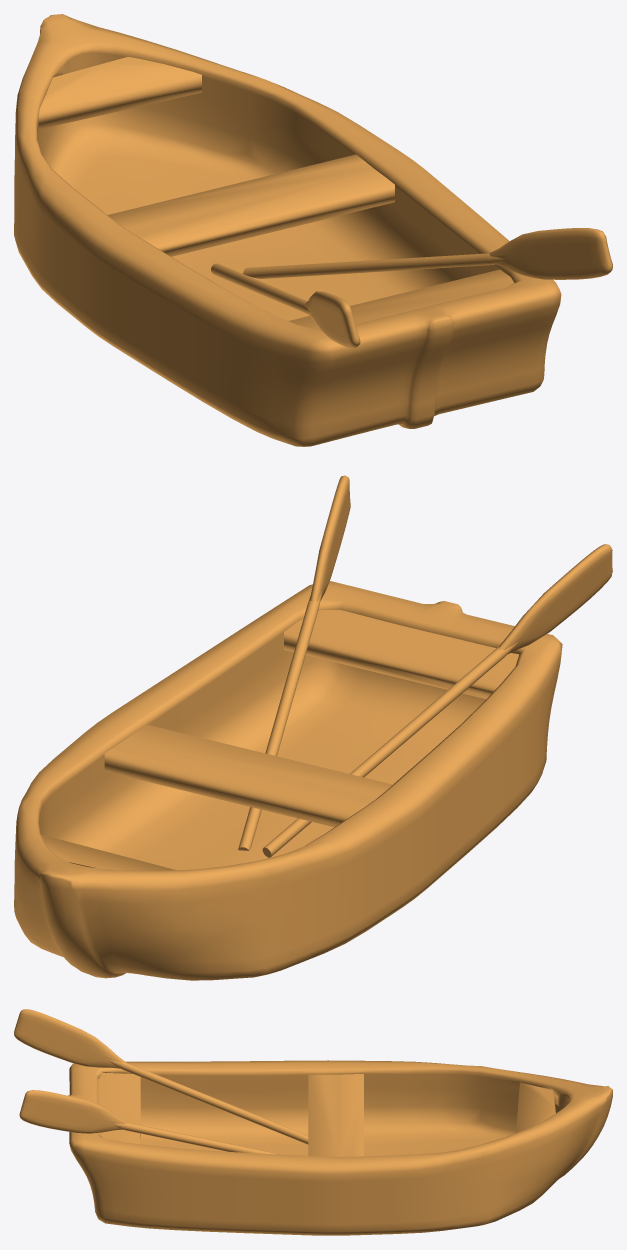
The model's file is barco.fbx.
3 views of the same model, one above another, from view 1: azimuth 30°, elevation 25°; view 2: azimuth 150°, elevation 25°; view 3: azimuth 270°, elevation 25° (orthographic). The views are drawn at different scales.
Visible parts, largest first — view 1: pCube1, pCube3, pCube4; view 2: pCube1, pCube4, pCube3; view 3: pCube1, pCube4, pCube3.
Boxes of the visible parts, bbox=[...] form: pCube1: bbox=[14, 14, 561, 446]; pCube3: bbox=[243, 228, 612, 279]; pCube4: bbox=[211, 263, 360, 347]; pCube1: bbox=[14, 581, 562, 980]; pCube4: bbox=[262, 544, 612, 857]; pCube3: bbox=[238, 475, 350, 850]; pCube1: bbox=[68, 1060, 612, 1235]; pCube4: bbox=[14, 1009, 308, 1144]; pCube3: bbox=[19, 1090, 280, 1154].
Size of the model in its own units: 2.26 by 1.35 by 5.22.
